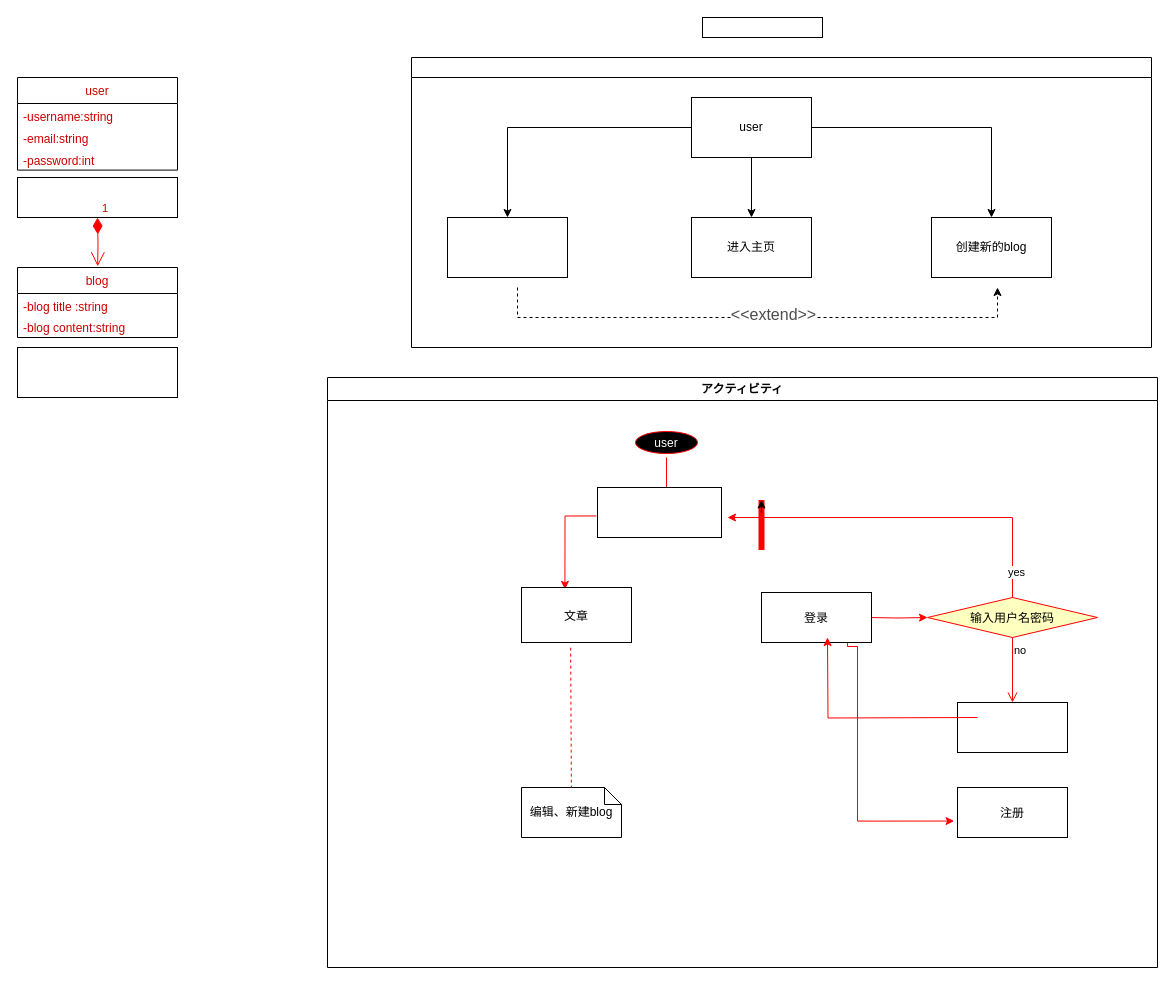
Image size: 1175x985. Some labels were removed from this diagram. The shapes that lost their labels are listed below. From the top down, each one's centre as x and y in pixels, then its label:
At point (762, 27): "ユースケース図".
At point (97, 197): "+login +register".
At point (507, 247): "登录，注册".
At point (97, 372): "+upload".
At point (659, 512): "首页".
At point (1012, 727): "密码错误 返回登录界面".
